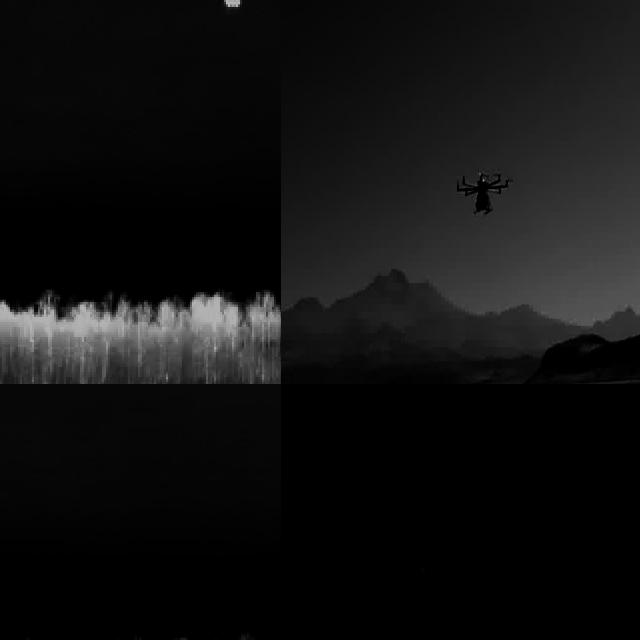0: (415, 559, 439, 587)
1: (216, 0, 252, 22)
drone: (452, 162, 514, 218)
